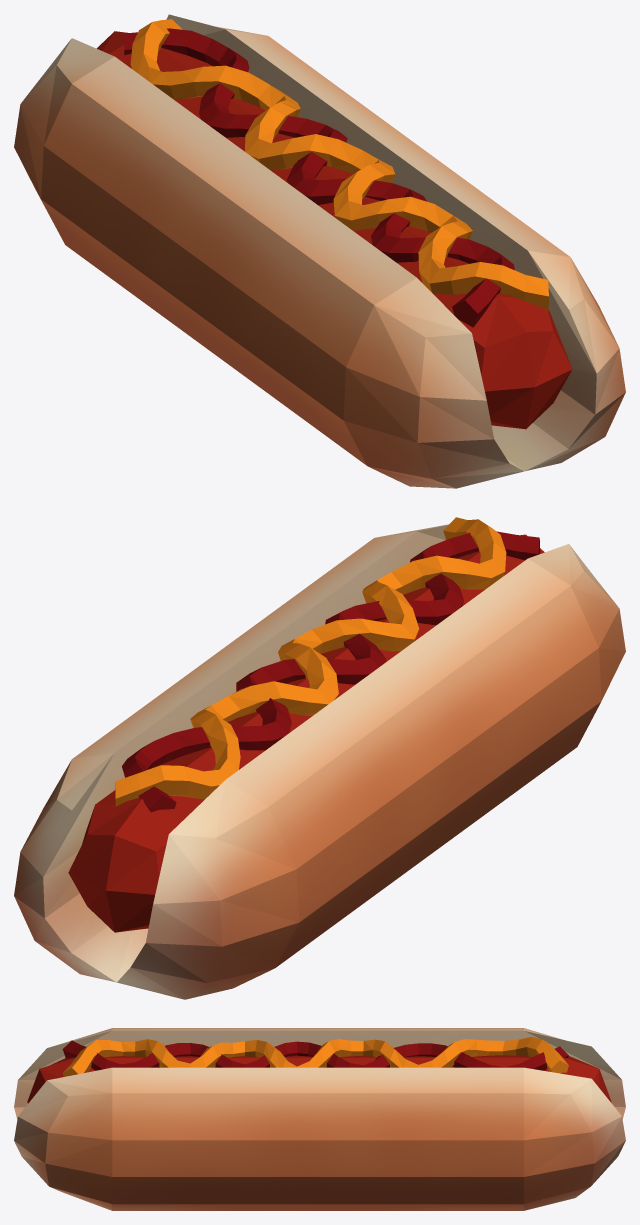
The model's file is hotdog.obj.
3 renders of one model, top to bottom at view 1: azimuth 30°, elevation 25°; view 2: azimuth 150°, elevation 25°; view 3: azimuth 270°, elevation 25°, orthographic. The views are drawn at different scales.
Size of the model in its own units: 0.9282 by 0.7564 by 2.8.
4 materials, 1 textured.
